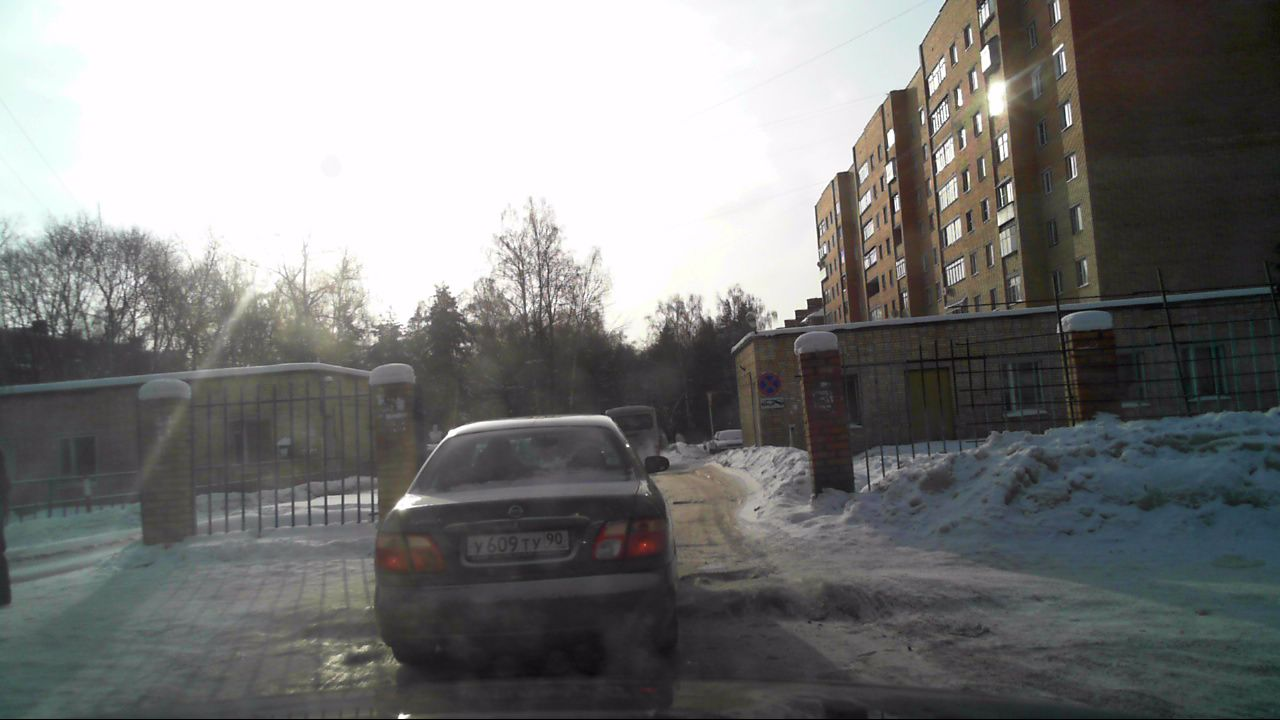No Parking: (757, 371, 781, 395)
